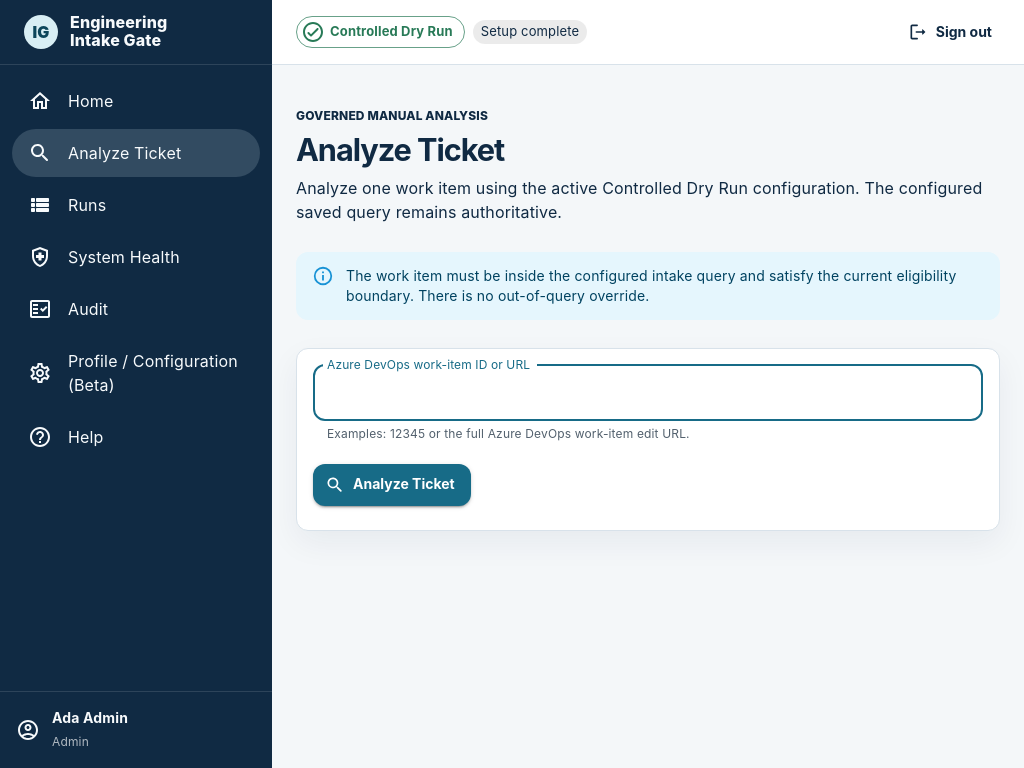
Test case: OPS-UI-002 governed Analyze Ticket execution › submits a positive numeric work-item ID through the centralized client
The image size is (1024, 768).
Type "202" into the field labelled "Azure DevOps work-item ID or URL".
click(648, 393); type("202")  # box x1=313 y1=365 x2=983 y2=421
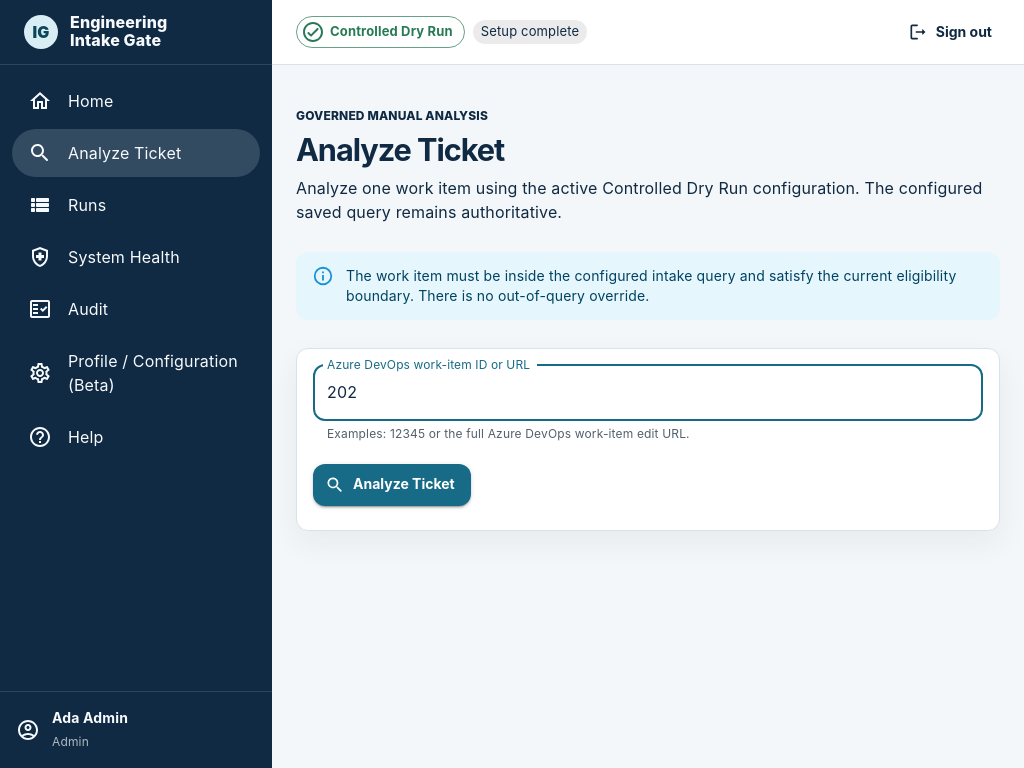
Click the button "Analyze Ticket".
click(392, 485)  # box x1=313 y1=464 x2=471 y2=506
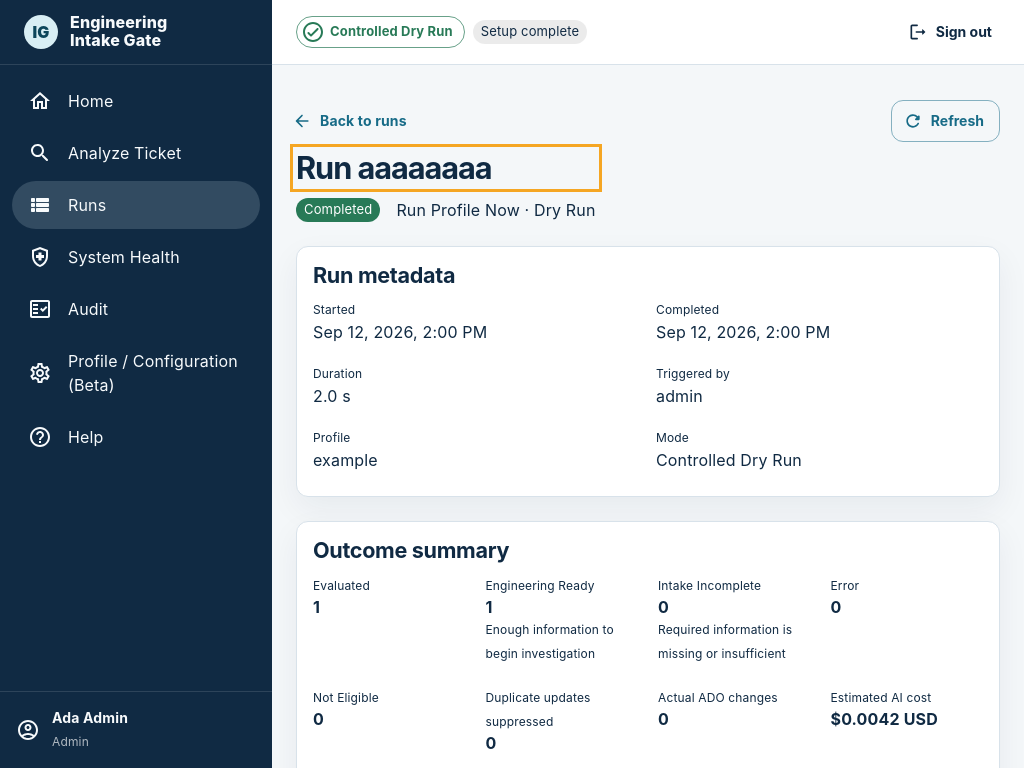
Check: the heading "Run aaaaaaaa" is shown, box x1=296 y1=149 x2=492 y2=186
